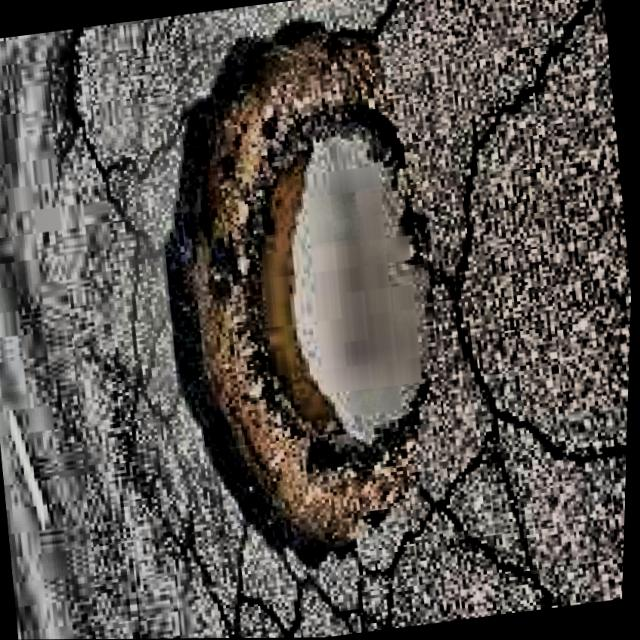pothole: (166, 23, 425, 565)
